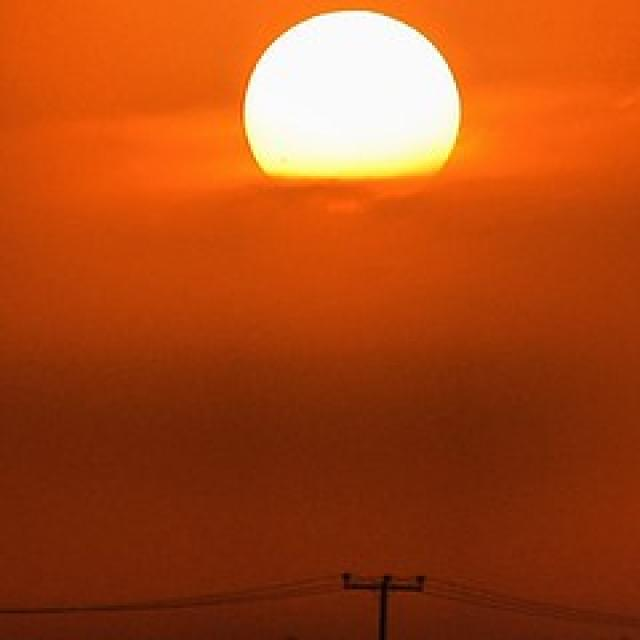sun: (189, 0, 506, 213)
